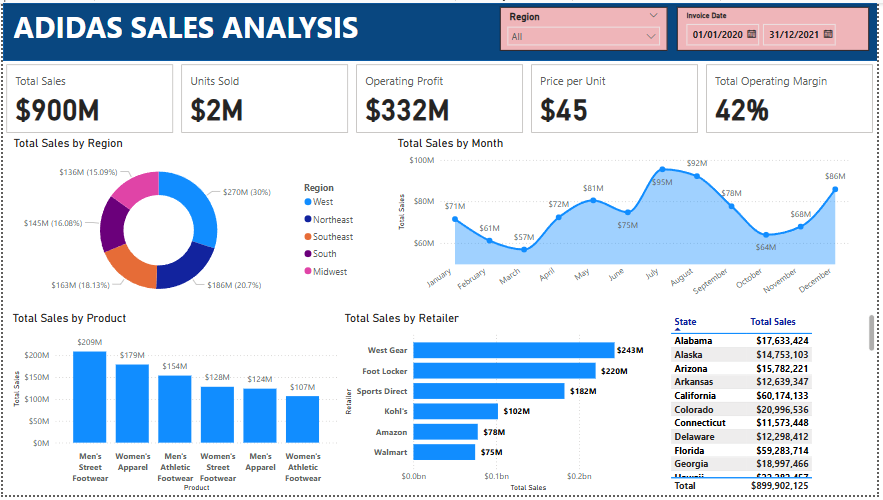

What the dashboard file says about the page in this screenshot:
{"tool":"powerbi","page":{"name":"Page 1","canvas":[1280,720],"ordinal":0},"visuals":[{"type":"donutChart","fields":{"Category":["Data Sales Adidas.Region"],"Y":["Sum(Data Sales Adidas.Total Sales)"]},"box":[9.7,195.2,516.1,254.8],"z":0},{"type":"areaChart","fields":{"Category":["Data Sales Adidas.Invoice Date.Variation.Date Hierarchy.Month"],"Y":["Sum(Data Sales Adidas.Total Sales)"]},"box":[572.6,195.2,671,254.8],"z":1000},{"type":"clusteredColumnChart","fields":{"Category":["Data Sales Adidas.Product"],"Y":["Sum(Data Sales Adidas.Total Sales)"]},"box":[9,450.7,485.1,268.7],"z":2000},{"type":"clusteredBarChart","fields":{"Category":["Data Sales Adidas.Retailer"],"Y":["Sum(Data Sales Adidas.Total Sales)"]},"box":[494,450.7,465.7,268.7],"z":3000},{"type":"shape","box":[0,0,1280.6,85.1],"z":4000},{"type":"textbox","box":[10,0,562.9,70],"z":5000},{"type":"cardVisual","fields":{"Data":["Sum(Data Sales Adidas.Total Sales)","Sum(Data Sales Adidas.Units Sold)","Sum(Data Sales Adidas.Operating Profit)","Avg(Data Sales Adidas.Price per Unit)","Avg(Data Sales Adidas.Operating Margin)"]},"box":[0,85.1,1280.6,110.4],"z":6000},{"type":"tableEx","fields":{"Values":["Data Sales Adidas.State","Sum(Data Sales Adidas.Total Sales)"]},"box":[971.6,450.7,309,268.7],"z":6001},{"type":"slicer","fields":{"Values":["Data Sales Adidas.Region"]},"box":[726.9,6,244.8,64.2],"z":6002},{"type":"slicer","fields":{"Values":["Data Sales Adidas.Invoice Date"]},"box":[986.6,6,280.6,64.2],"z":6003}]}

Visuals, with their boxes in screenshot pixels (x1, y1, x2, y2), scaled from the page's 1280x720 canvas onto the 883x500 screenshot:
donutChart - Data Sales Adidas.Region x Sum(Data Sales Adidas.Total Sales): region(7, 136, 363, 312)
areaChart - Data Sales Adidas.Invoice Date.Variation.Date Hierarchy.Month x Sum(Data Sales Adidas.Total Sales): region(395, 136, 858, 312)
clusteredColumnChart - Data Sales Adidas.Product x Sum(Data Sales Adidas.Total Sales): region(6, 313, 341, 499)
clusteredBarChart - Data Sales Adidas.Retailer x Sum(Data Sales Adidas.Total Sales): region(341, 313, 662, 499)
shape: region(0, 0, 882, 59)
textbox: region(7, 0, 395, 49)
cardVisual - Sum(Data Sales Adidas.Total Sales) x Sum(Data Sales Adidas.Units Sold): region(0, 59, 882, 136)
tableEx - Data Sales Adidas.State x Sum(Data Sales Adidas.Total Sales): region(670, 313, 882, 499)
slicer - Data Sales Adidas.Region: region(501, 4, 670, 49)
slicer - Data Sales Adidas.Invoice Date: region(681, 4, 874, 49)
